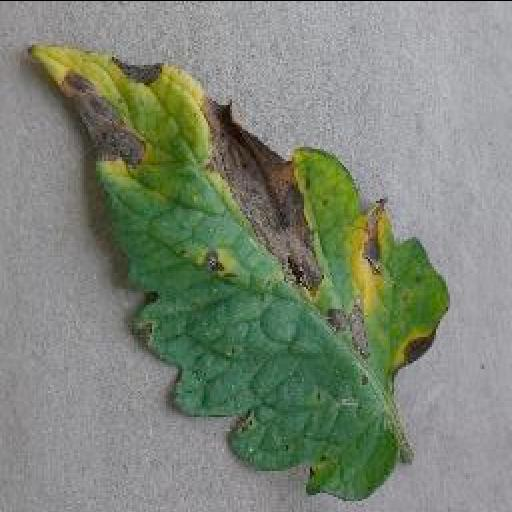disease_tomato: (27, 45, 449, 501)
